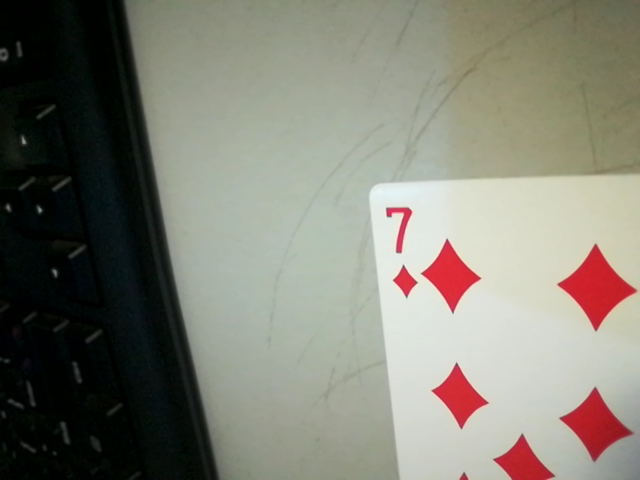fk 7: (372, 194, 424, 306)
